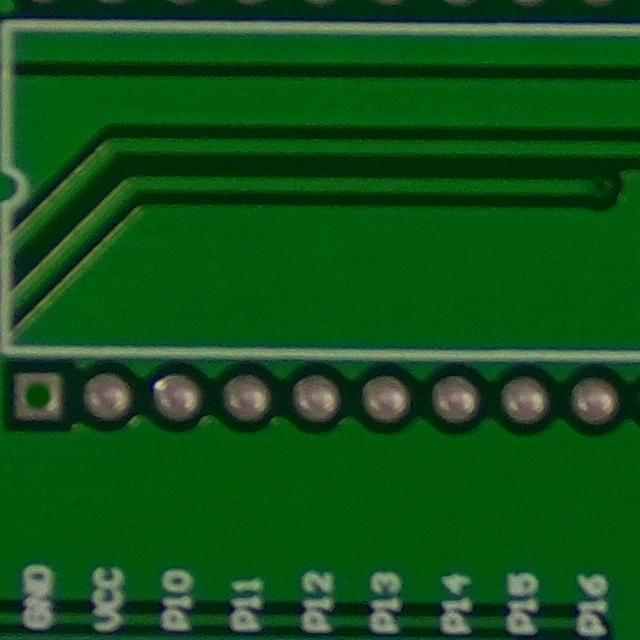missing_hole: (6, 361, 70, 430)
